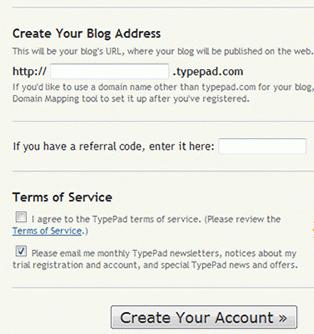button: (109, 305, 298, 329)
checkbox: (13, 244, 31, 258), (13, 209, 29, 224)
checkbox_with_label: (11, 207, 284, 226), (11, 243, 298, 260)
field: (48, 63, 171, 79), (216, 138, 308, 156)
field_with_label: (13, 137, 311, 157), (13, 62, 173, 81)
